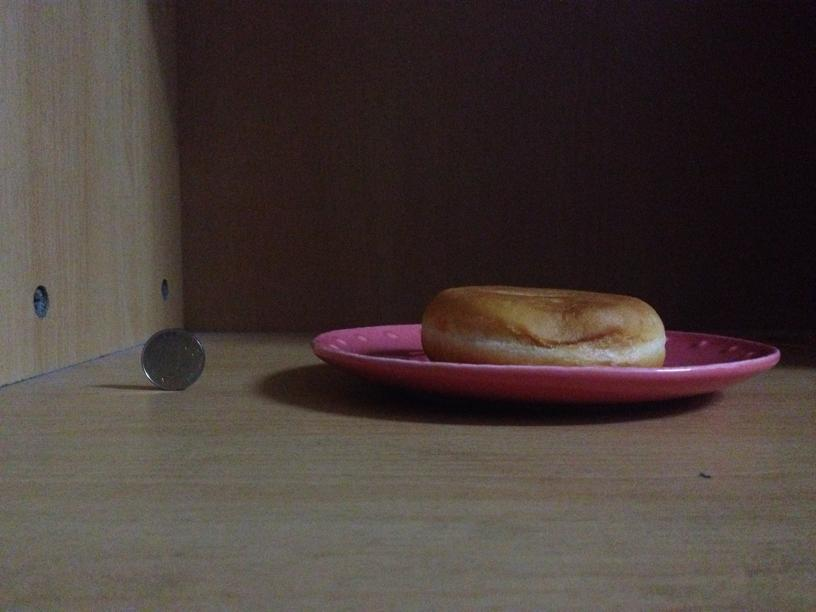coin: (139, 328, 203, 389)
doughnut: (423, 287, 667, 367)
